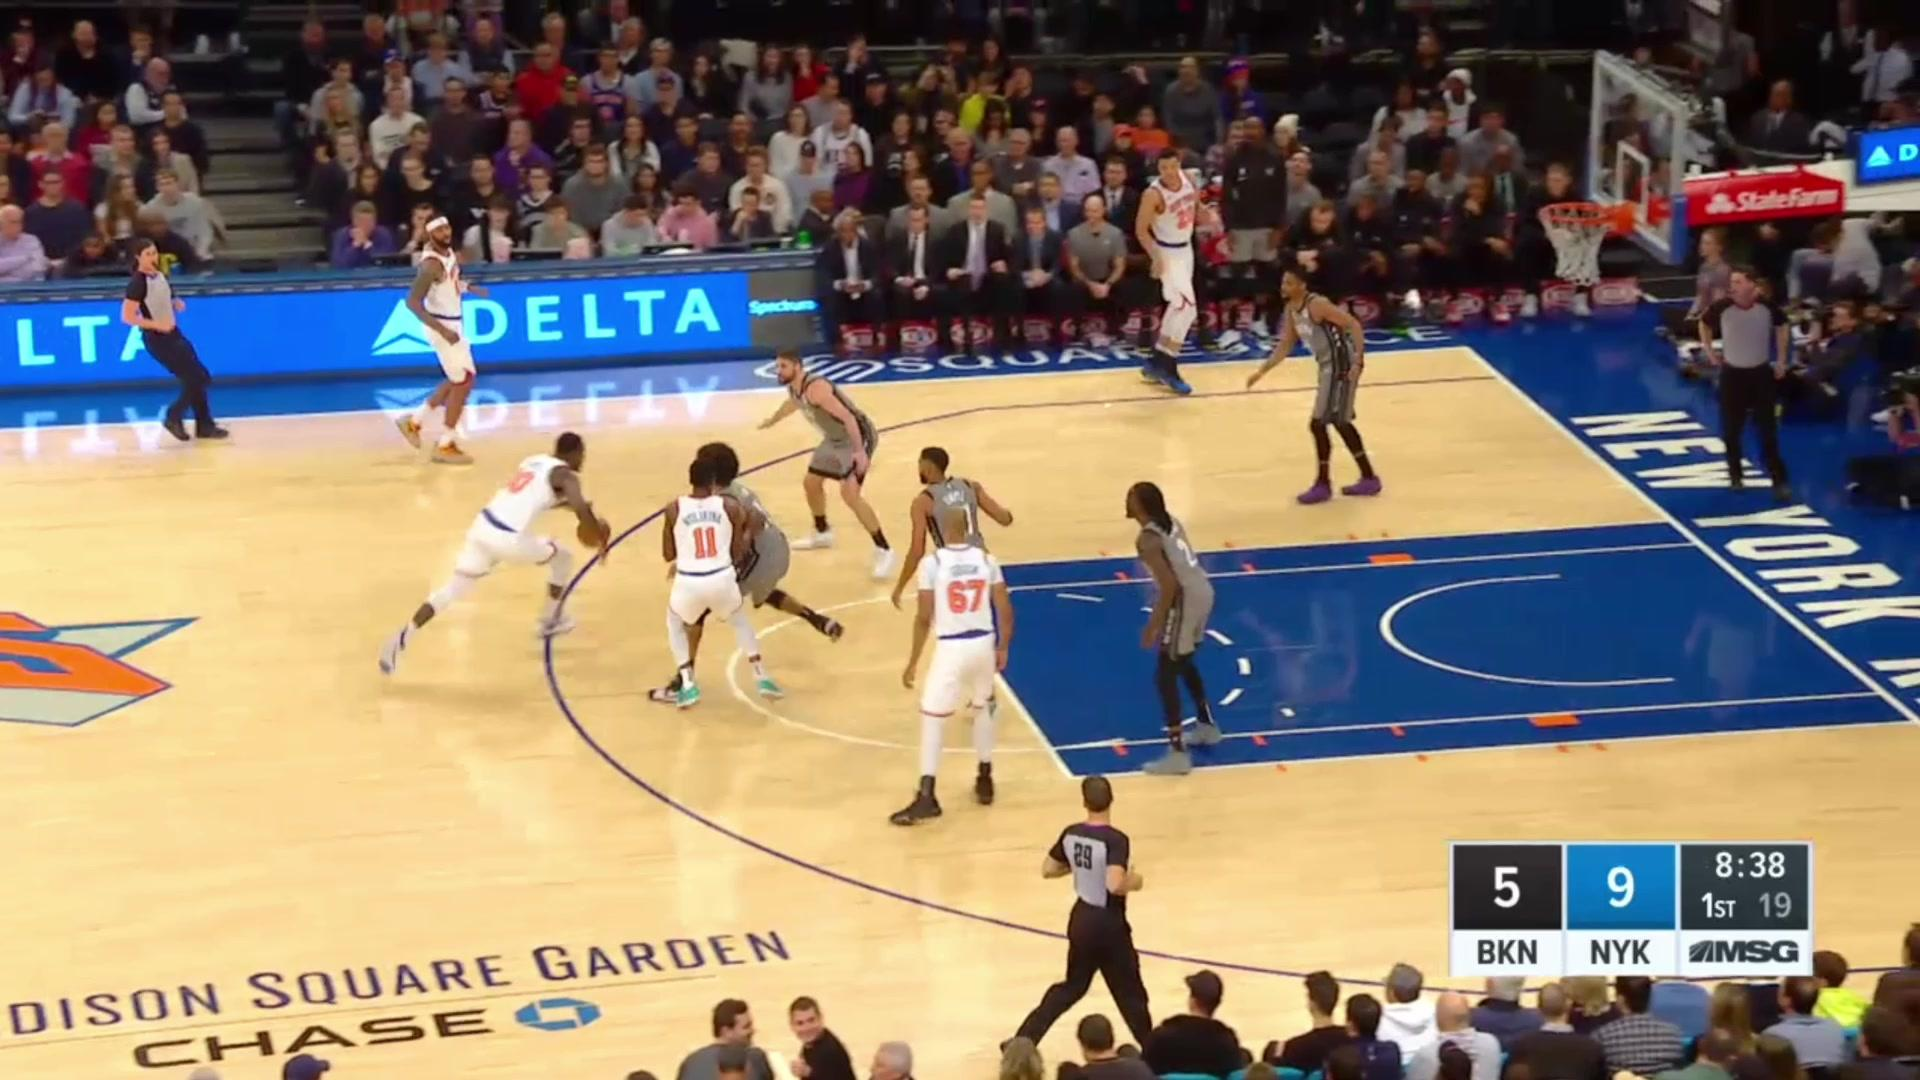no_foul: (654, 413, 781, 702)
